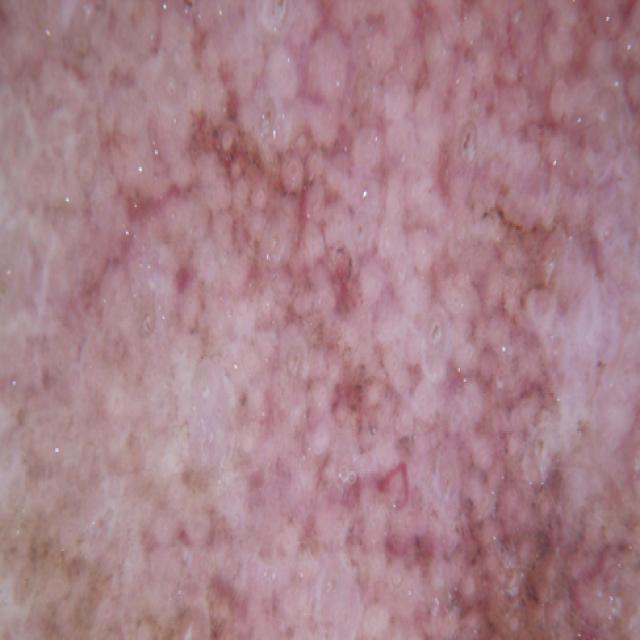Melanoma: (0, 125, 628, 640)
